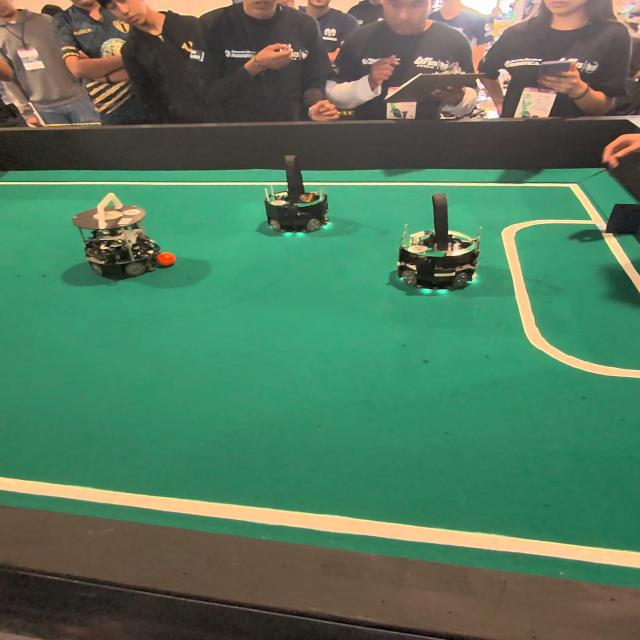Robot: (389, 193, 490, 303), (70, 192, 164, 281), (260, 154, 336, 248)
